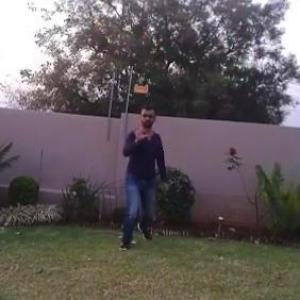follow_hand: (131, 119, 151, 145)
